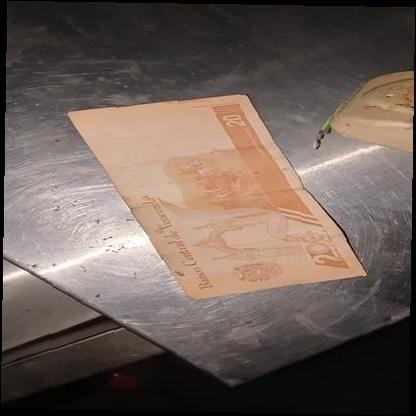twenty-back-vef: (67, 93, 368, 300)
